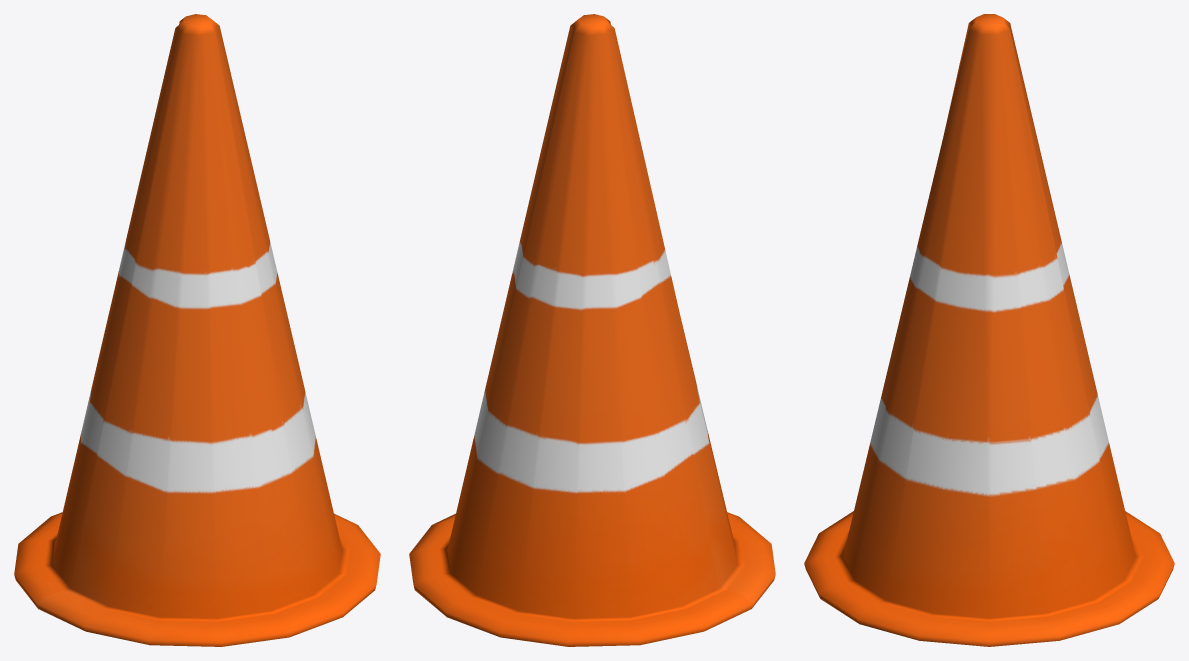
The picture shows the model from 3 angles, left to right: view 1: azimuth 30°, elevation 25°; view 2: azimuth 150°, elevation 25°; view 3: azimuth 270°, elevation 25°; orthographic projection.
Visible parts, largest first — view 1: barge_03_01; view 2: barge_03_01; view 3: barge_03_01.
Part boxes in pixels (x1,y1,x2,y2): barge_03_01: [14, 14, 380, 646]; barge_03_01: [409, 14, 775, 646]; barge_03_01: [804, 14, 1174, 646].
Size of the model in its own units: 54.11 by 88.56 by 54.11.
